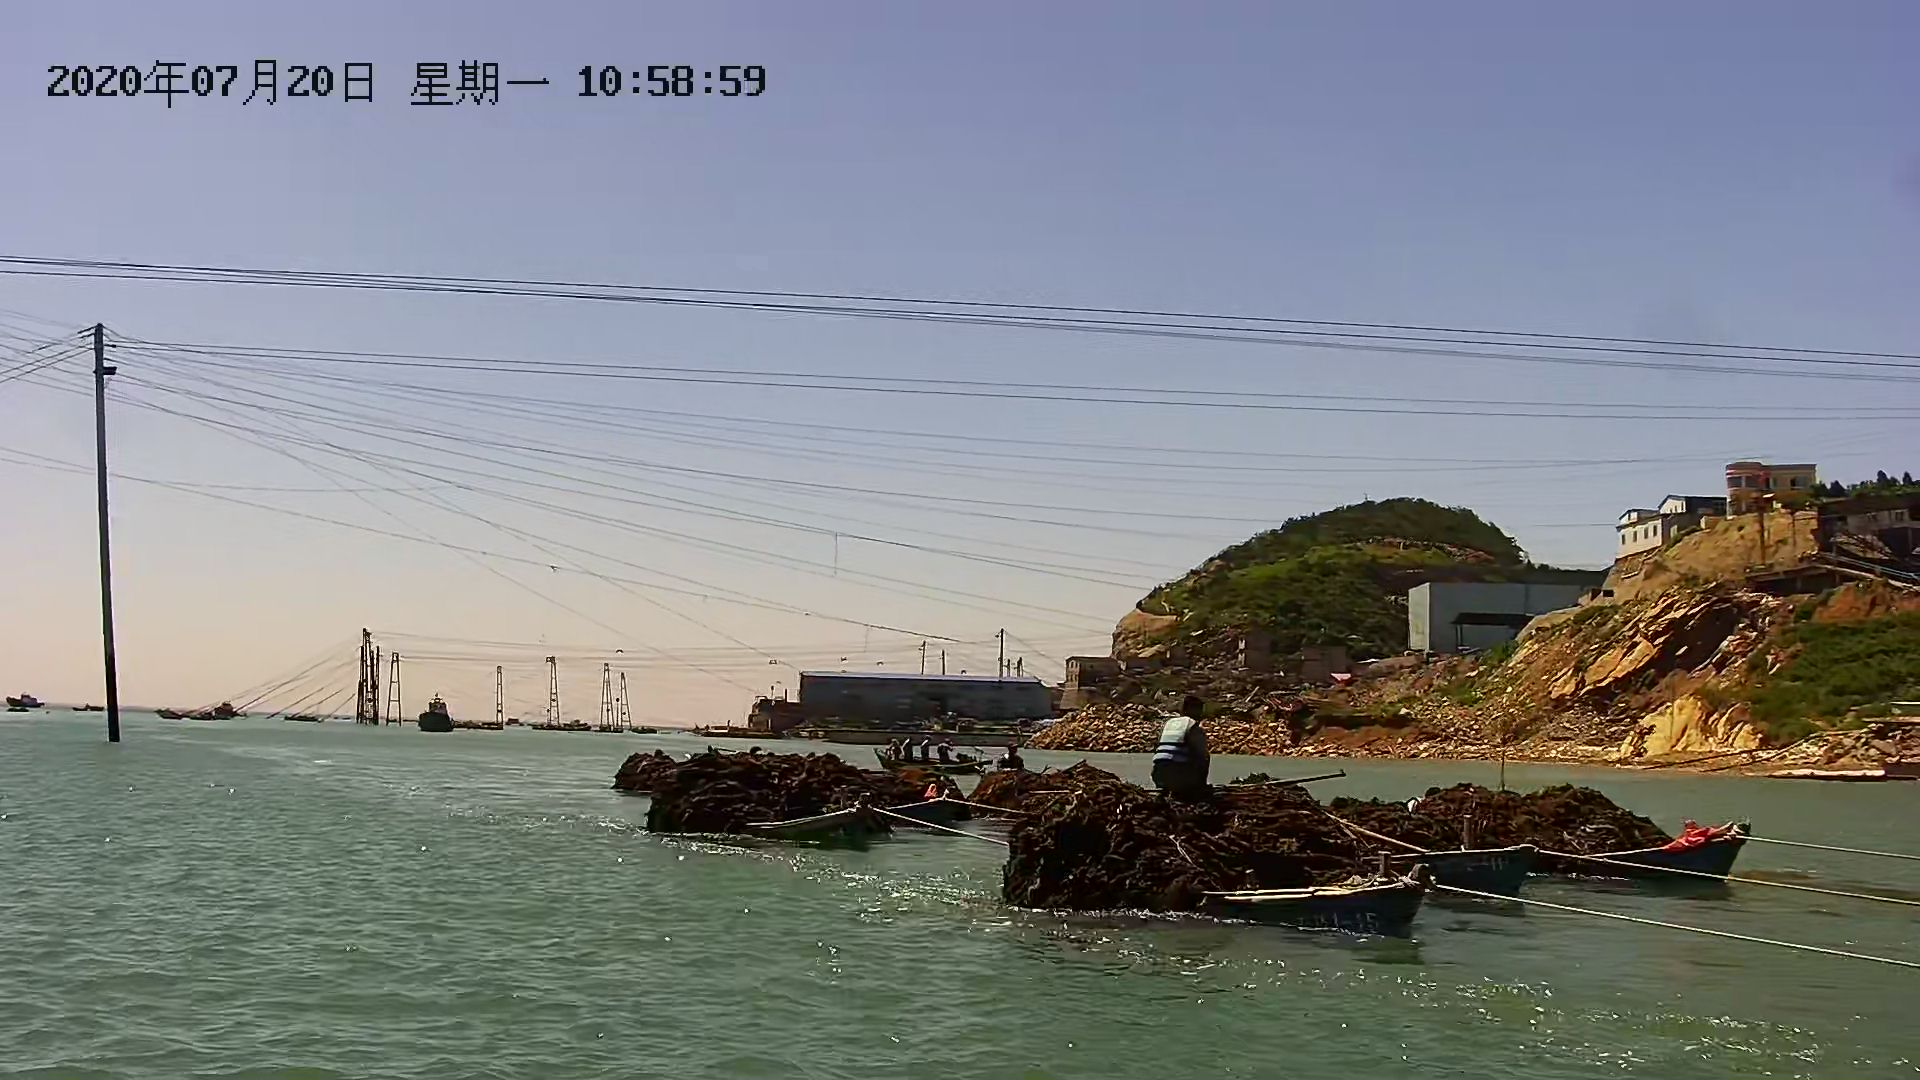boat: (866, 745, 993, 779)
mast: (85, 322, 137, 751)
person: (1148, 692, 1218, 798), (918, 736, 934, 778), (901, 734, 918, 773), (938, 736, 953, 777)
rubbish: (1007, 777, 1418, 941), (610, 730, 964, 842), (1367, 765, 1648, 896)
